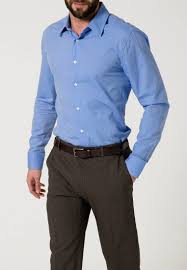F_belt: (48, 132, 137, 166)
F_dress pants: (41, 146, 151, 270)
F_shirt: (26, 9, 167, 170)
